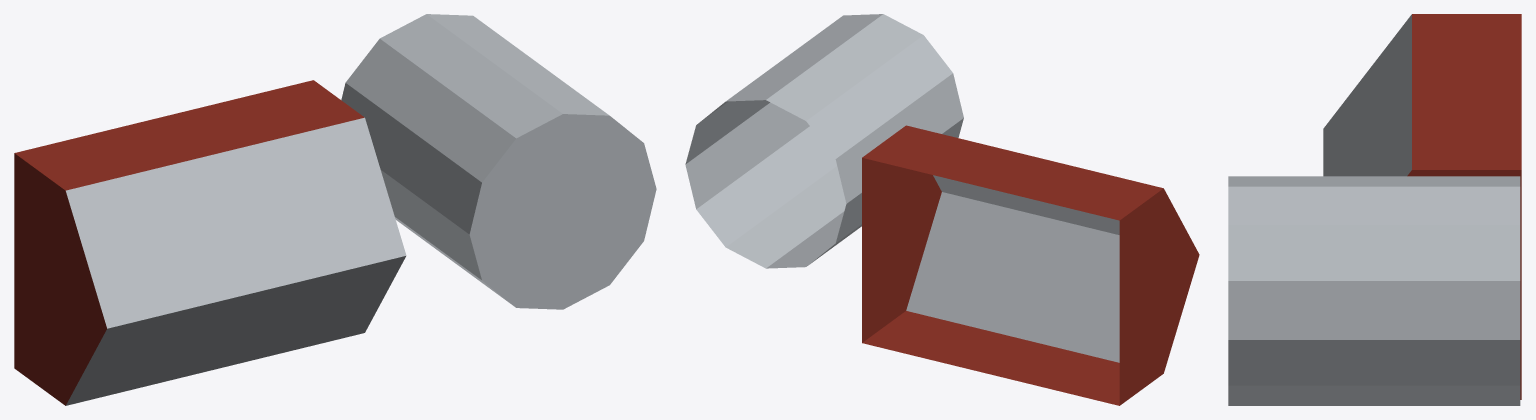
File: island_bldg_14_08.obj
3 views of the same model, side by side, from view 1: azimuth 30°, elevation 25°; view 2: azimuth 150°, elevation 25°; view 3: azimuth 270°, elevation 25° (orthographic). The views are drawn at different scales.
Parts seen in each view (by area): view 1: island_bldg_14_08; view 2: island_bldg_14_08; view 3: island_bldg_14_08.
Boxes of the visible parts, x1,y1,x2,y2 form: island_bldg_14_08: (14, 14, 656, 405); island_bldg_14_08: (685, 14, 1199, 405); island_bldg_14_08: (1228, 14, 1521, 405).
Size of the model in its own units: 54 by 26 by 25.41.
